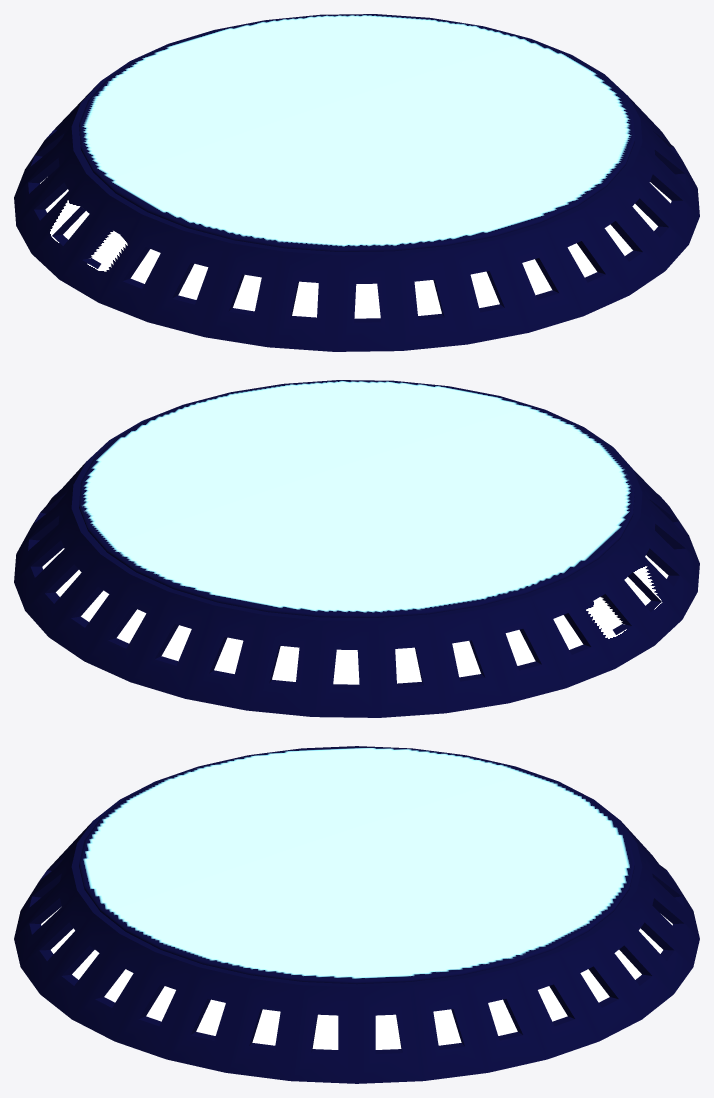
The model's file is Podium.fbx.
The picture shows the model from 3 angles, top to bottom: view 1: azimuth 30°, elevation 25°; view 2: azimuth 150°, elevation 25°; view 3: azimuth 270°, elevation 25°; orthographic projection.
Parts seen in each view (by area): view 1: Cylinder.005; view 2: Cylinder.005; view 3: Cylinder.005.
Part boxes in pixels (bbox=[...]): Cylinder.005: bbox=[14, 14, 699, 351]; Cylinder.005: bbox=[14, 380, 699, 717]; Cylinder.005: bbox=[14, 746, 699, 1083].
Bounding box in the file's own units: 283 × 34.76 × 283.
Materials: 1 (1 with a texture image).
